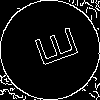E: (25, 25, 79, 72)
